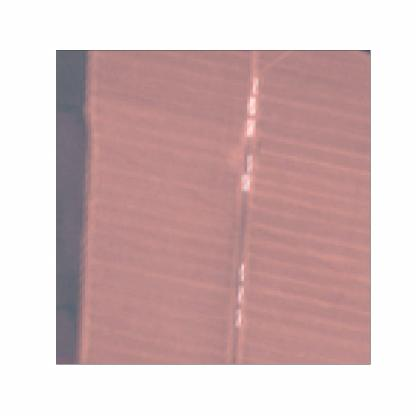silobolsa: (236, 174, 251, 192), (234, 264, 245, 284), (251, 76, 260, 97), (233, 309, 242, 329), (244, 155, 253, 174), (237, 287, 246, 306), (245, 119, 255, 136), (248, 97, 256, 117)
